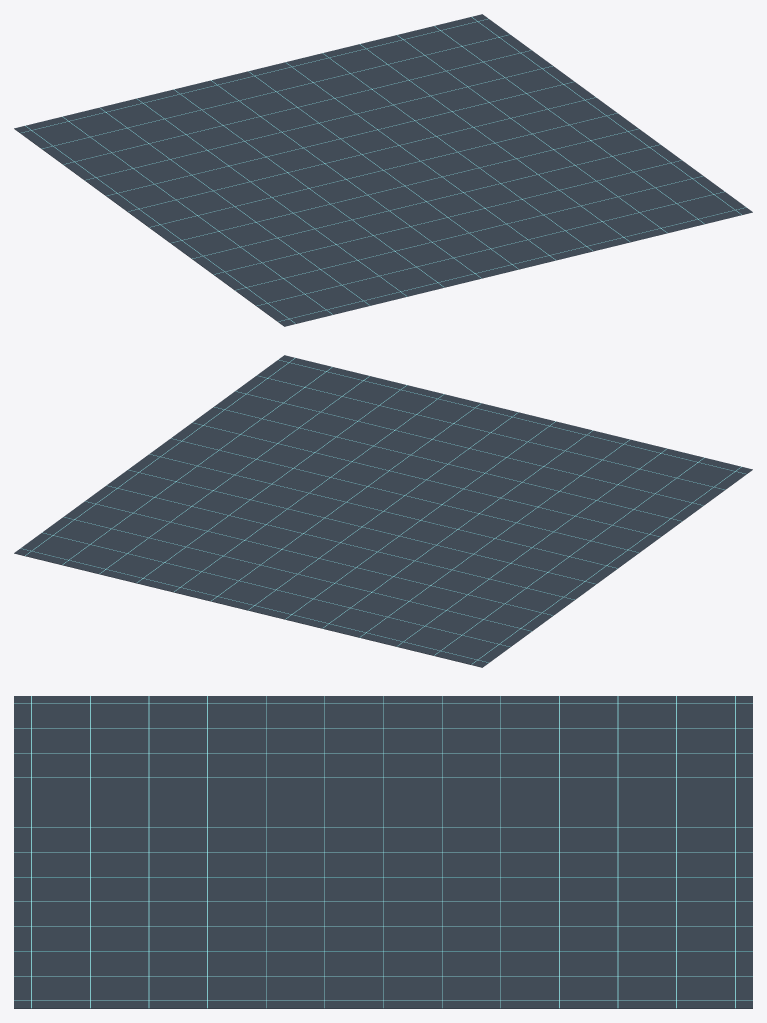
Rendered from deck-transport.glb.
The picture shows the model from 3 angles, top to bottom: view 1: azimuth 30°, elevation 25°; view 2: azimuth 150°, elevation 25°; view 3: azimuth 270°, elevation 25°; orthographic projection. The views are drawn at different scales.
Visible parts, largest first — view 1: Transport & Mobility Deck; view 2: Transport & Mobility Deck; view 3: Transport & Mobility Deck.
Part boxes in pixels (box(x1,y1,x2,y2)): Transport & Mobility Deck: box(14, 14, 752, 326); Transport & Mobility Deck: box(14, 355, 752, 667); Transport & Mobility Deck: box(14, 696, 752, 1008).
Bounding box in the file's own units: 252 × 0.22 × 252.
